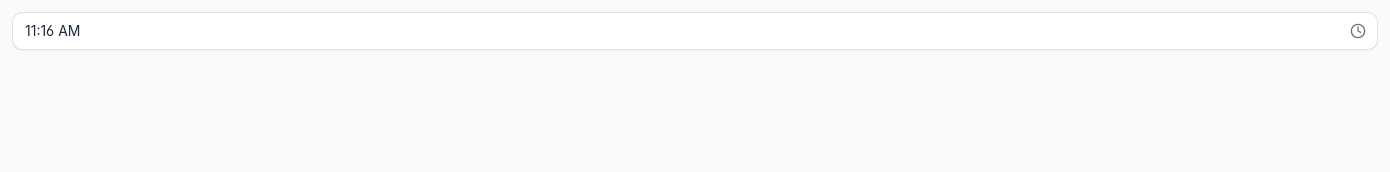
Scenario: TimePicker — formatting, sanitization, and UI › reverts invalid input on blur to last valid value
Replace the text in the field with "invalid" at (695, 31), box [12,12,1378,50]
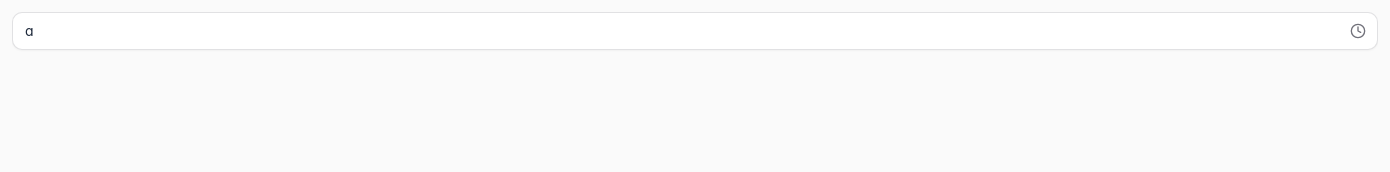
Leave the field, box [12,12,1378,50]
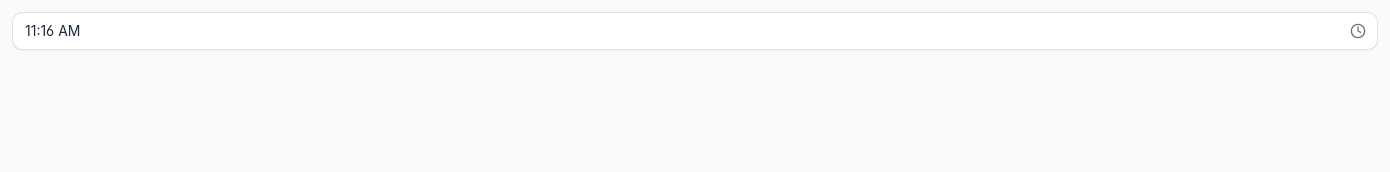
Now the field holds "11:16 AM", box [12,12,1378,50]
